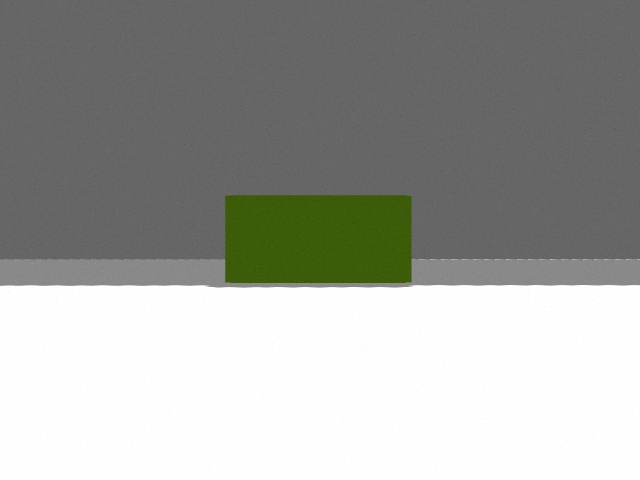green_drop_zone: (225, 195, 412, 283)
